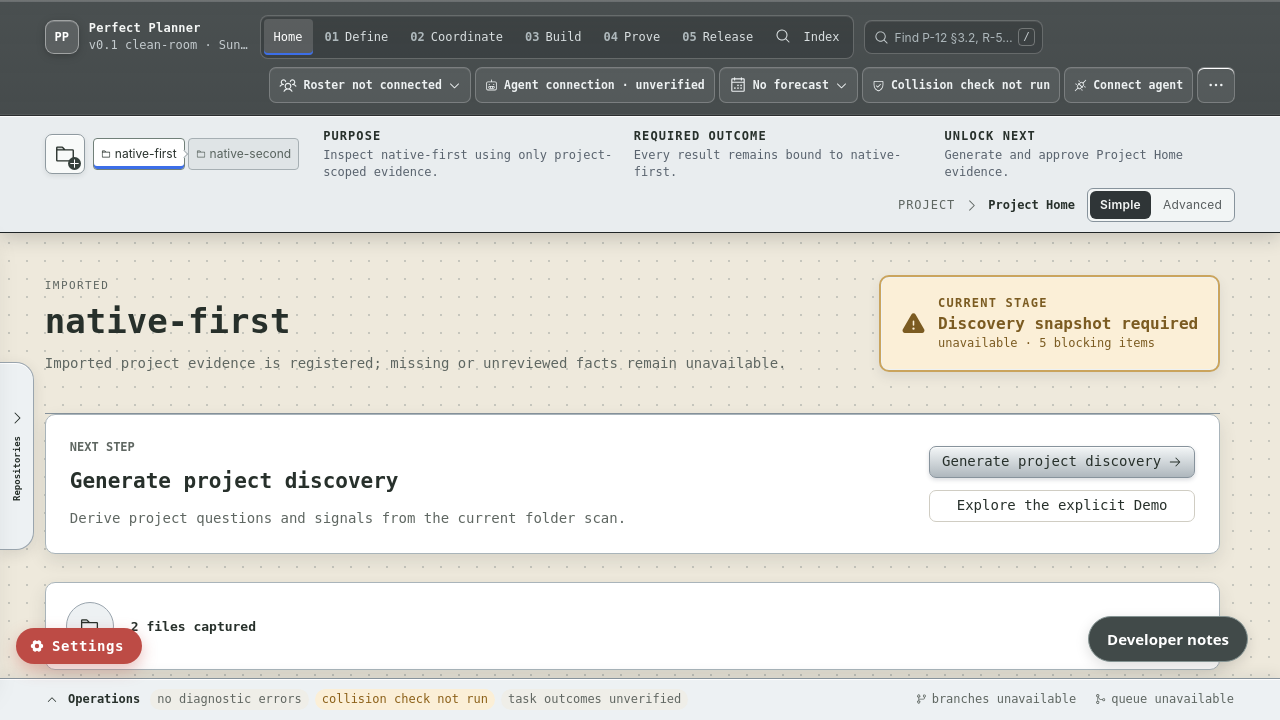
Test: native disconnected project can initiate the real controller check without capability receipts
Click the button named "More actions": (1216, 85) [1197, 67, 1235, 103]
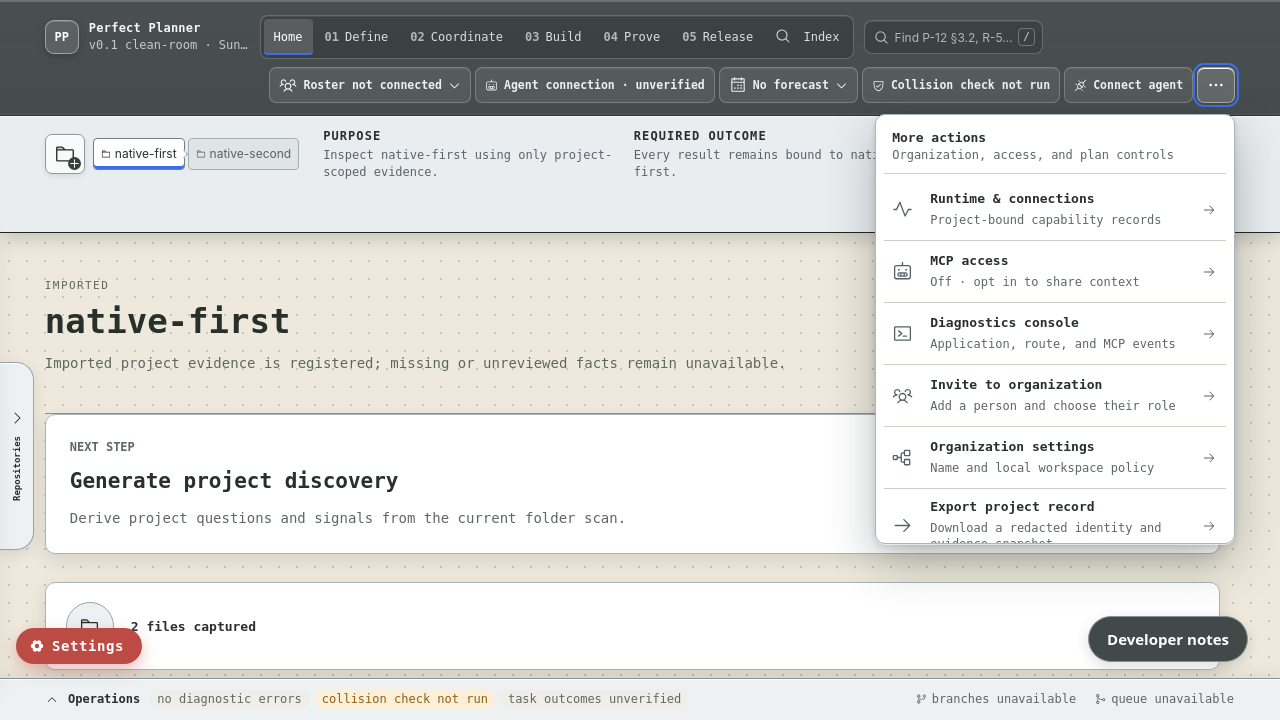
Click the button "Runtime & connections Project-bound capability records": (1055, 210) [884, 179, 1226, 241]
(page scrolled)
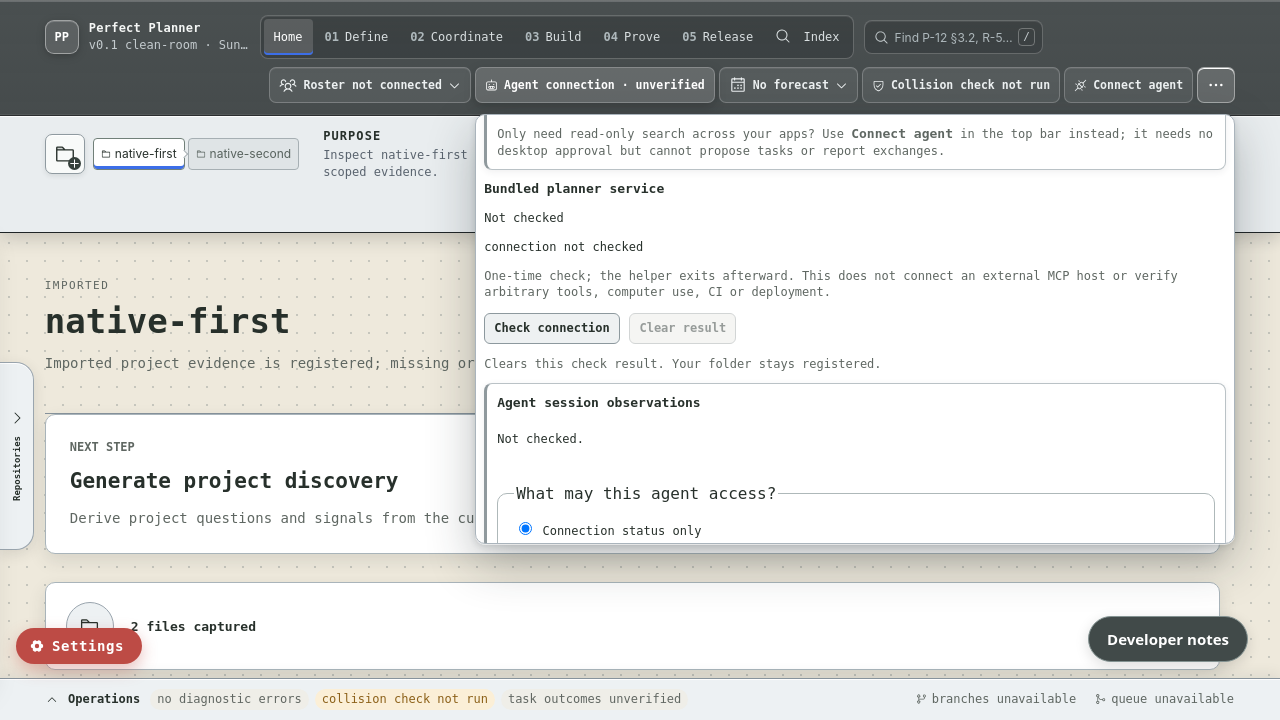
Now the button "Check connection" is enabled
Click the button "Check connection": (552, 329) [484, 313, 620, 344]
(page scrolled)
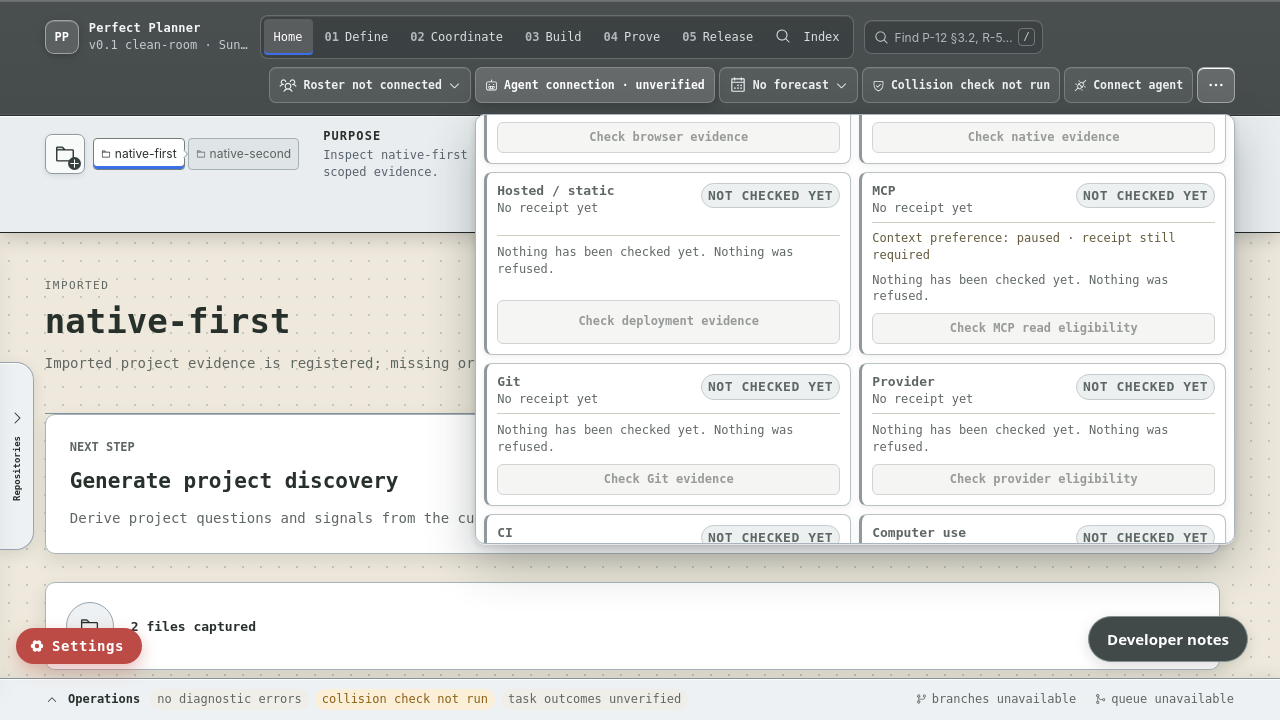
Now the button "Check MCP read eligibility" is disabled, box [872, 313, 1215, 344]
